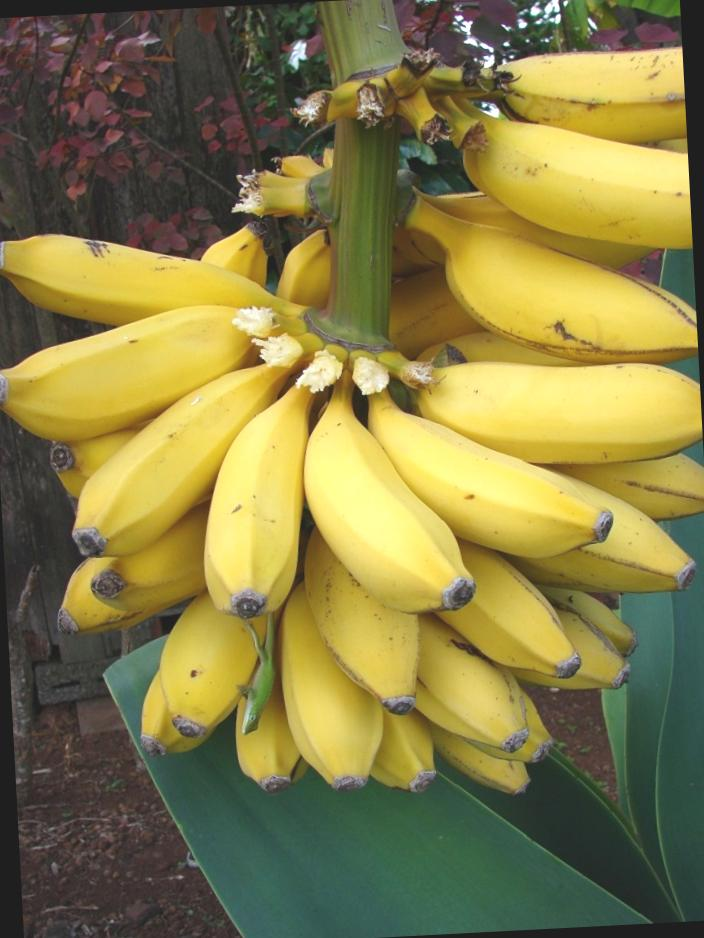Banana Ripe: (16, 329, 704, 652), (63, 503, 691, 847), (390, 0, 698, 362), (16, 202, 271, 362)
